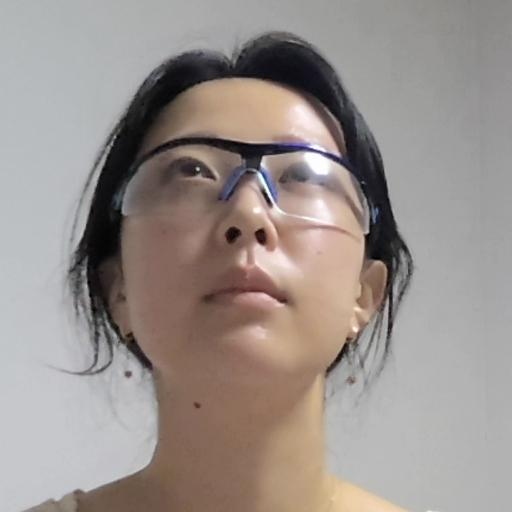glasses: (70, 40, 414, 419)
